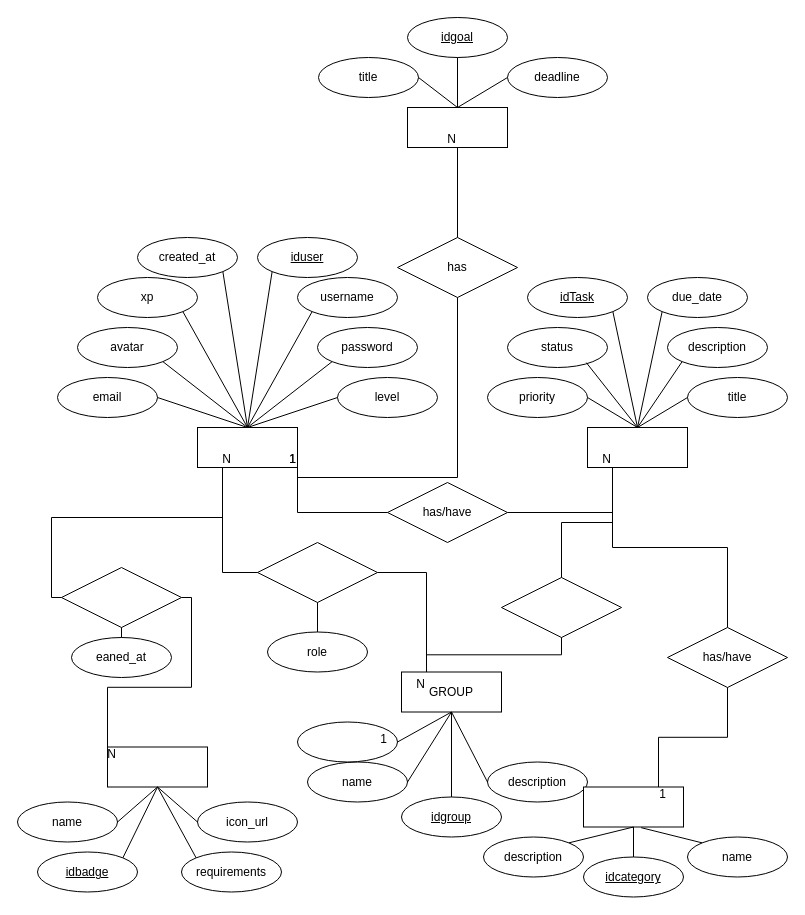
Image size: 805x915. Some labels were removed from this diagram. The shapes that lost their labels are listed below. From the top down, each one's centre as x and y in pixels, then its label:
the point at 457,127: GOAL
the point at 247,447: USER
the point at 637,447: TASK
the point at 317,572: is in
the point at 121,597: achieves
the point at 561,607: belongs to
the point at 347,741: idowner
the point at 157,766: BADGE
the point at 633,806: CATEGORY
